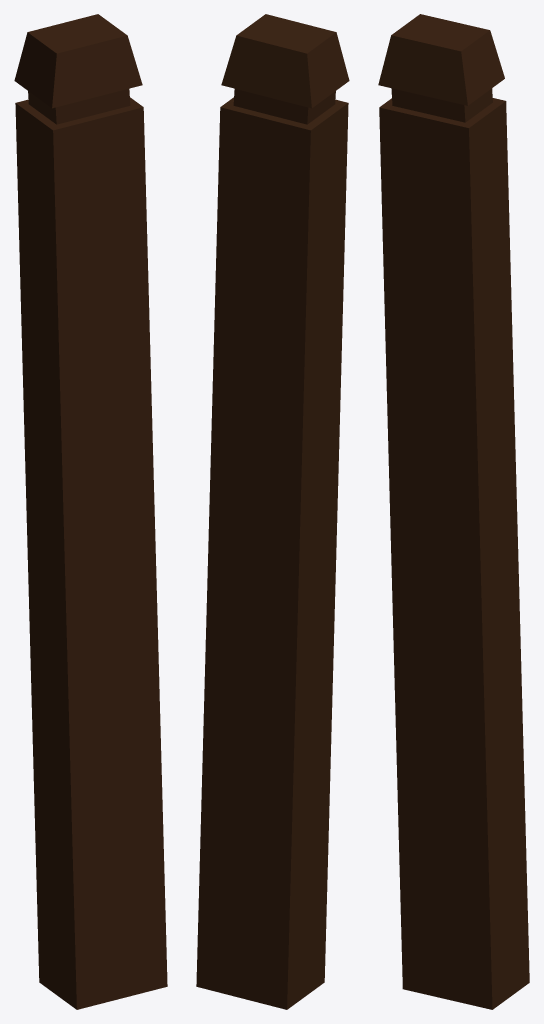
File: fence02.fbx
3 renders of one model, left to right at view 1: azimuth 30°, elevation 25°; view 2: azimuth 150°, elevation 25°; view 3: azimuth 330°, elevation 25°, orthographic.
Parts seen in each view (by area): view 1: Fence02; view 2: Fence02; view 3: Fence02.
Boxes of the visible parts, x1,y1,x2,y2 form: Fence02: (14,14,167,1009); Fence02: (196,14,349,1009); Fence02: (378,14,529,1009).
Bounding box in the file's own units: 0.1542 × 1.22 × 0.0871.
